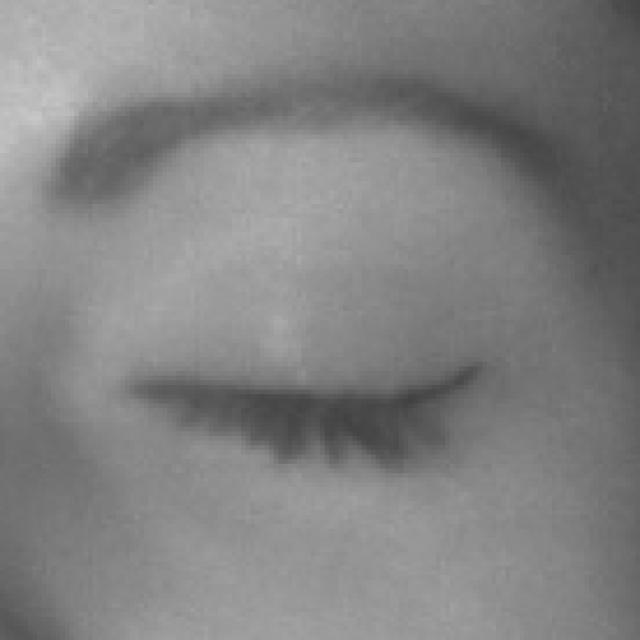close: (0, 41, 640, 594)
